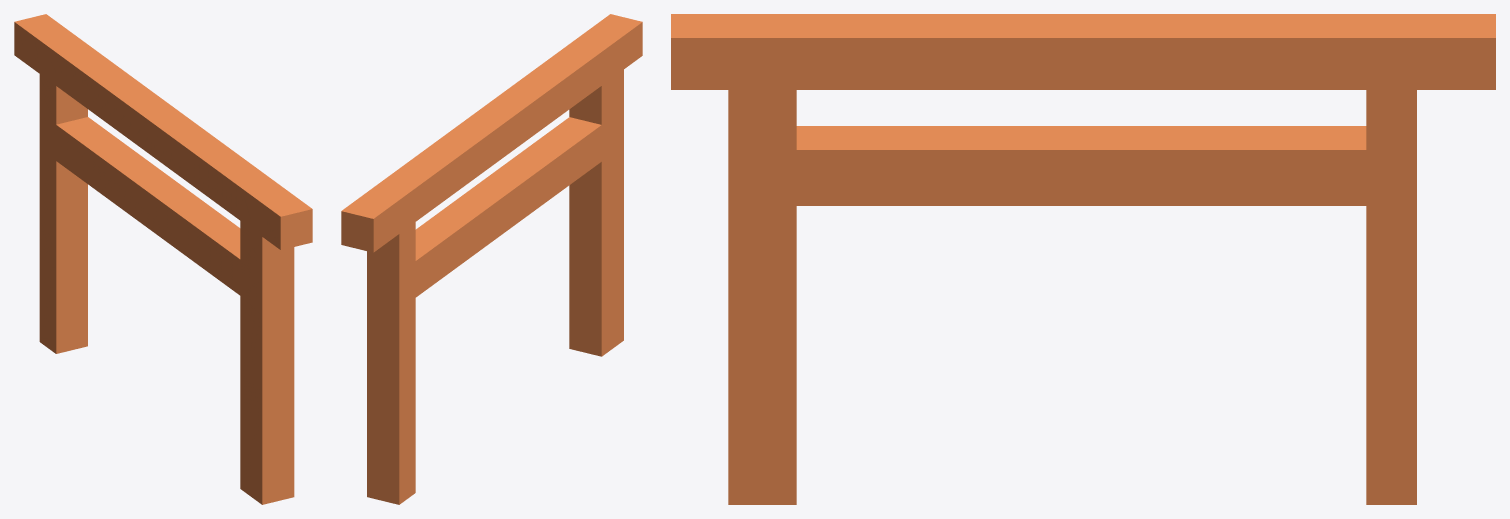
File: Fence.fbx
3 renders of one model, left to right at view 1: azimuth 30°, elevation 25°; view 2: azimuth 150°, elevation 25°; view 3: azimuth 270°, elevation 25°, orthographic. The views are drawn at different scales.
Visible parts, largest first — view 1: Cube; view 2: Cube; view 3: Cube.
Boxes of the visible parts, box(x1,y1,x2,y2) form: Cube: box(14, 14, 312, 504); Cube: box(341, 14, 642, 504); Cube: box(671, 14, 1495, 504).
Size of the model in its own units: 200 by 1804 by 2888.
